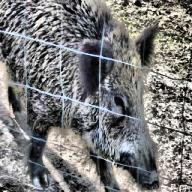boar: (0, 0, 161, 191)
